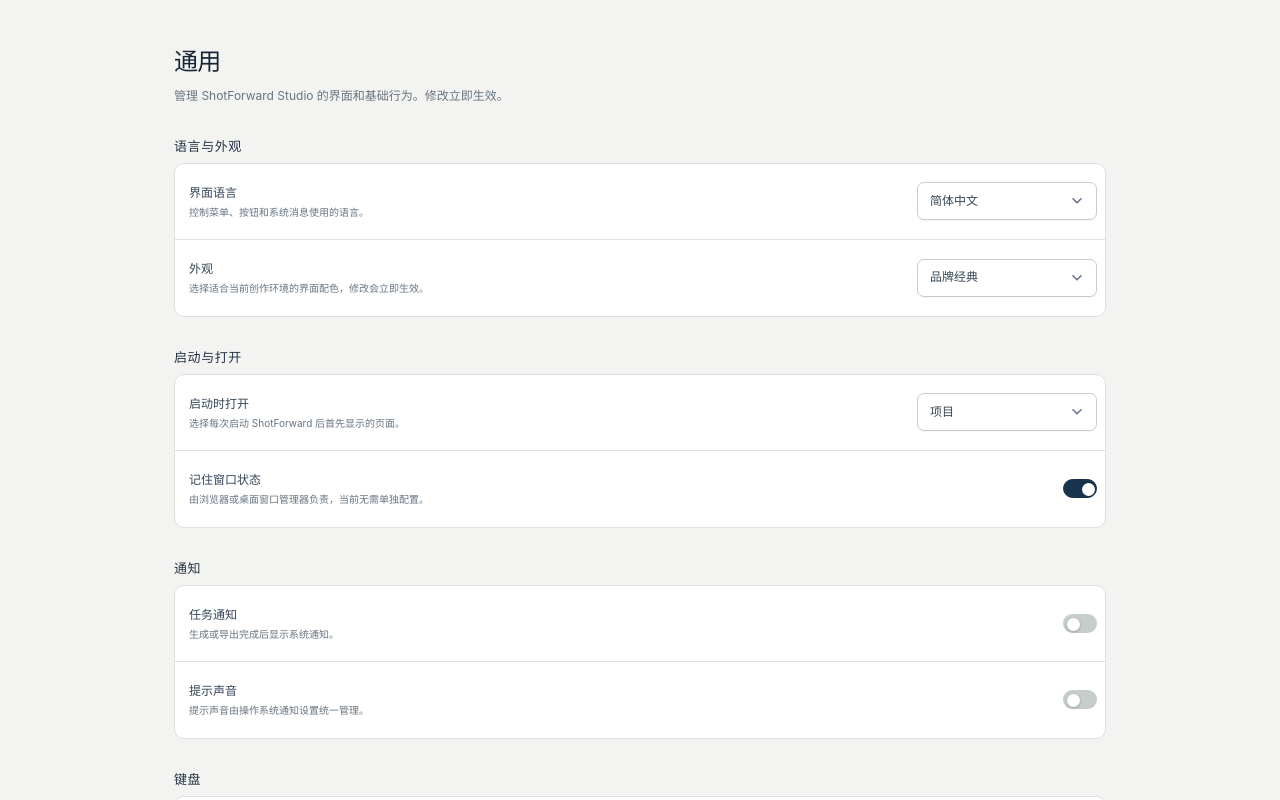
GeneralSettingsPage appearance › offers persisted Studio palettes and applies the choice immediately
Click the dropdown named "外观" at (1007, 278), box 917,259 -> 1097,297
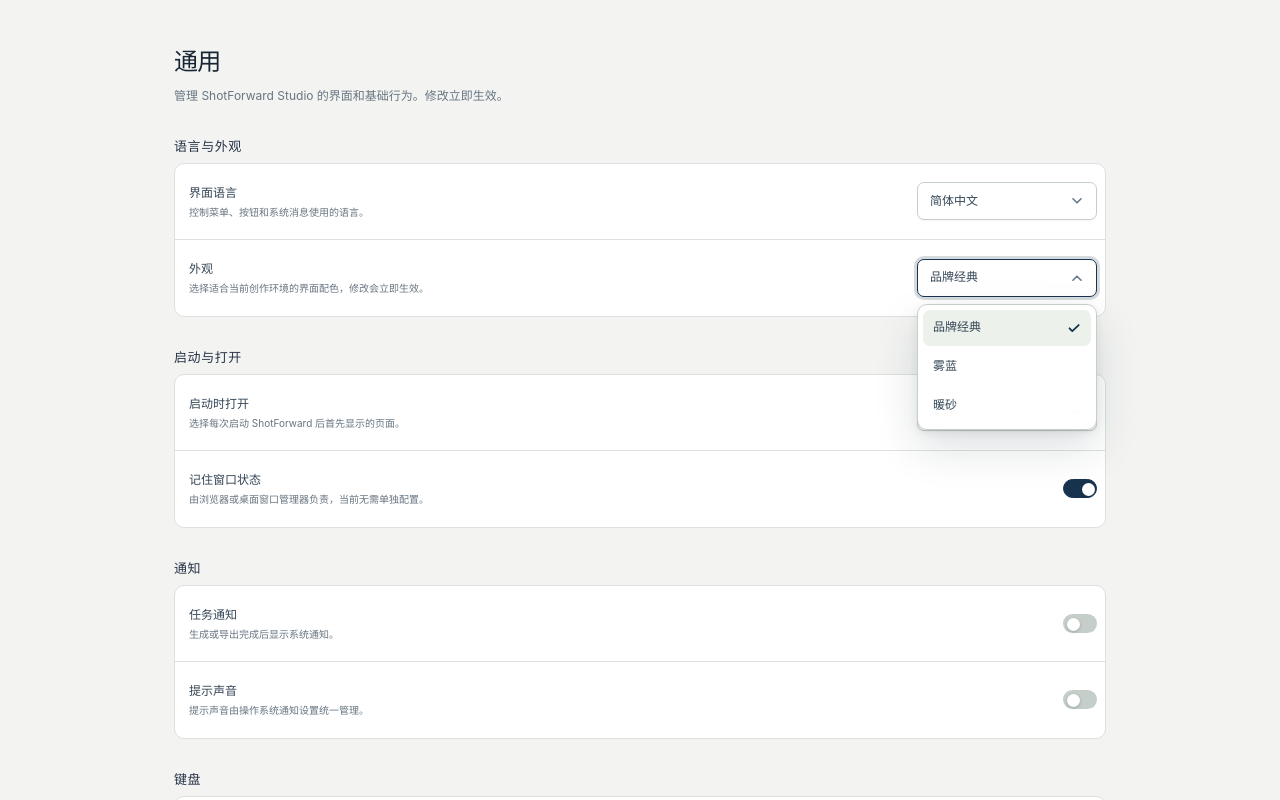
Click the option "雾蓝" at (1007, 367), box 923,349 -> 1091,385
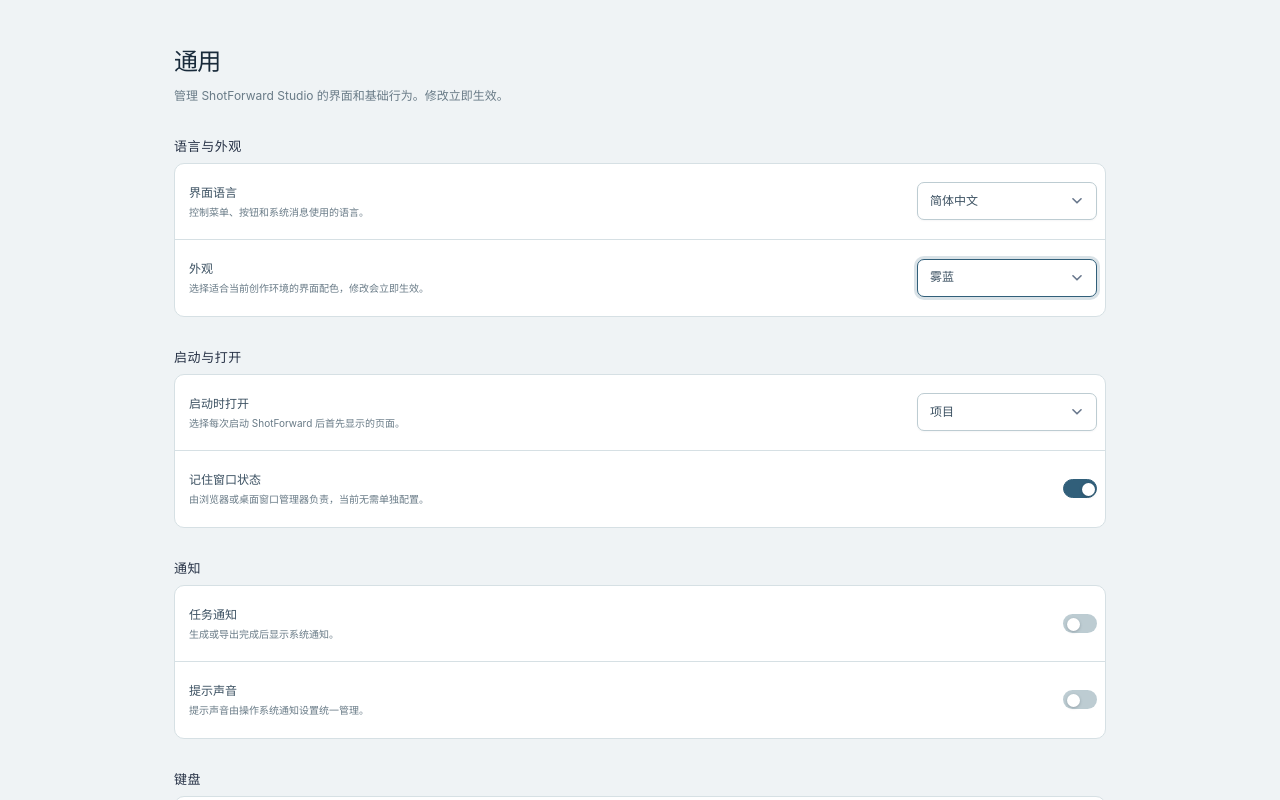
Result: the dropdown named "外观" reads "雾蓝" at 917,259 -> 1097,297
